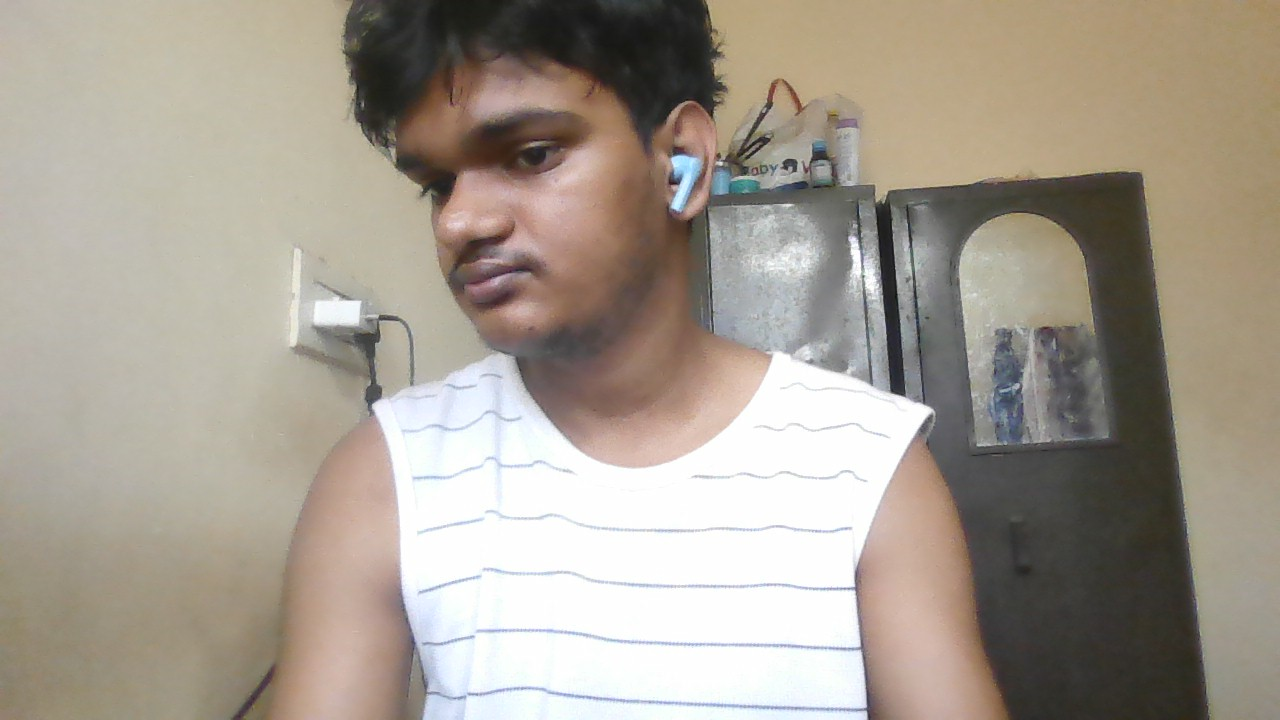earphone: (670, 145, 709, 208)
